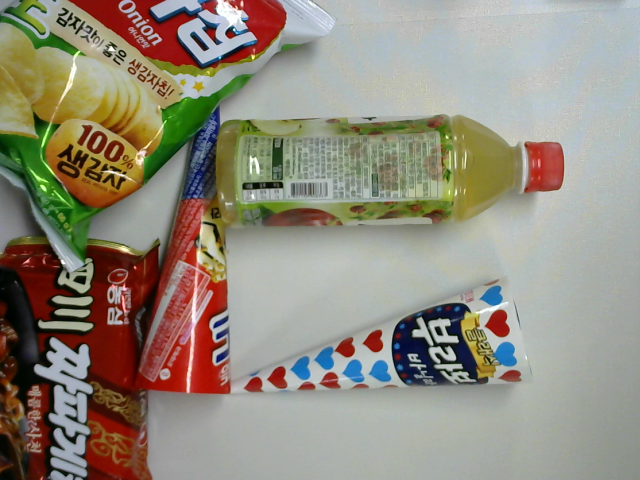Bravo_Cone_(Banila)_CVS: (208, 274, 541, 407)
Morning_Apple_500ml: (210, 105, 577, 231)
Pocachip_Onion: (1, 2, 348, 285)
Sichuan_Chapaghetti: (1, 219, 179, 478)
World_Cone_Banila: (126, 55, 240, 404)
